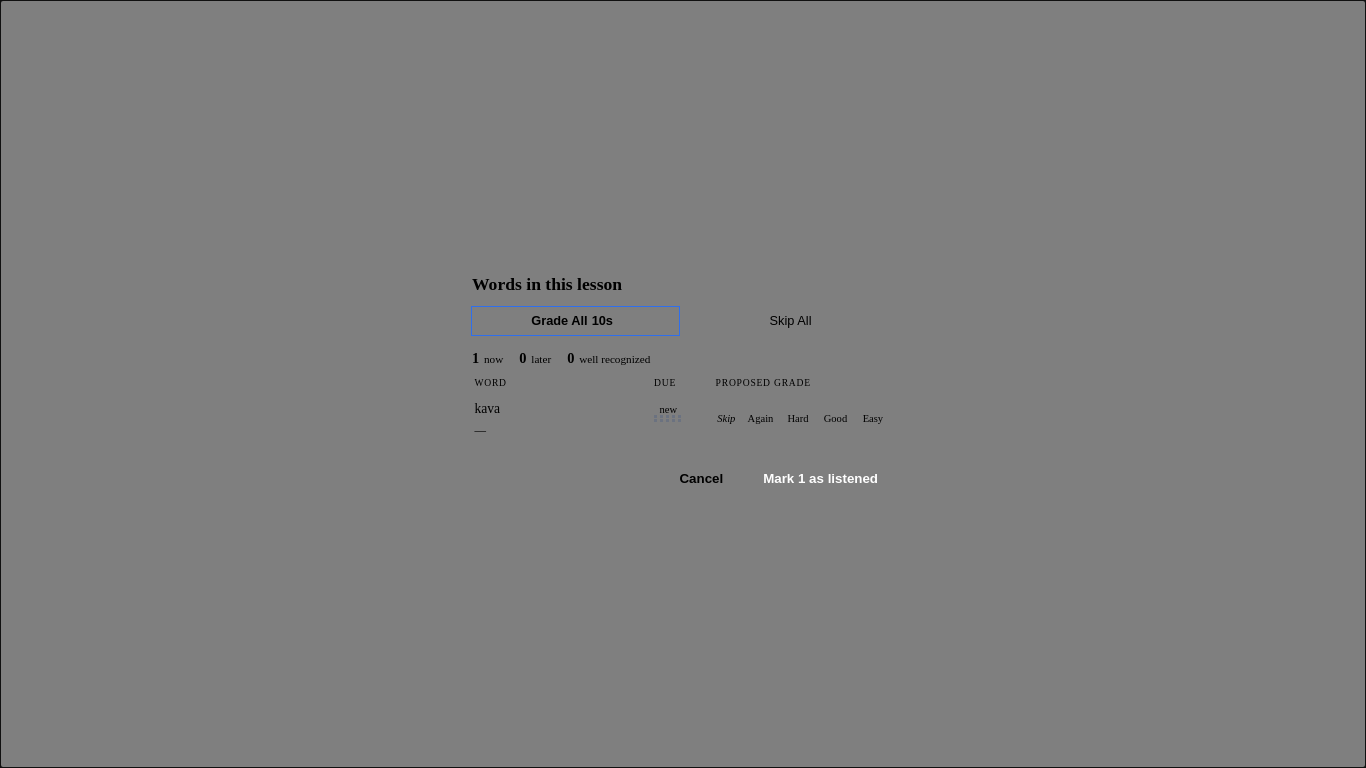
it: ListenPreviewModal › commit error shows error message
The image size is (1366, 768).
Step 1. Click the button "Mark 1 as listened" → (821, 479), box [747,463,894,494]
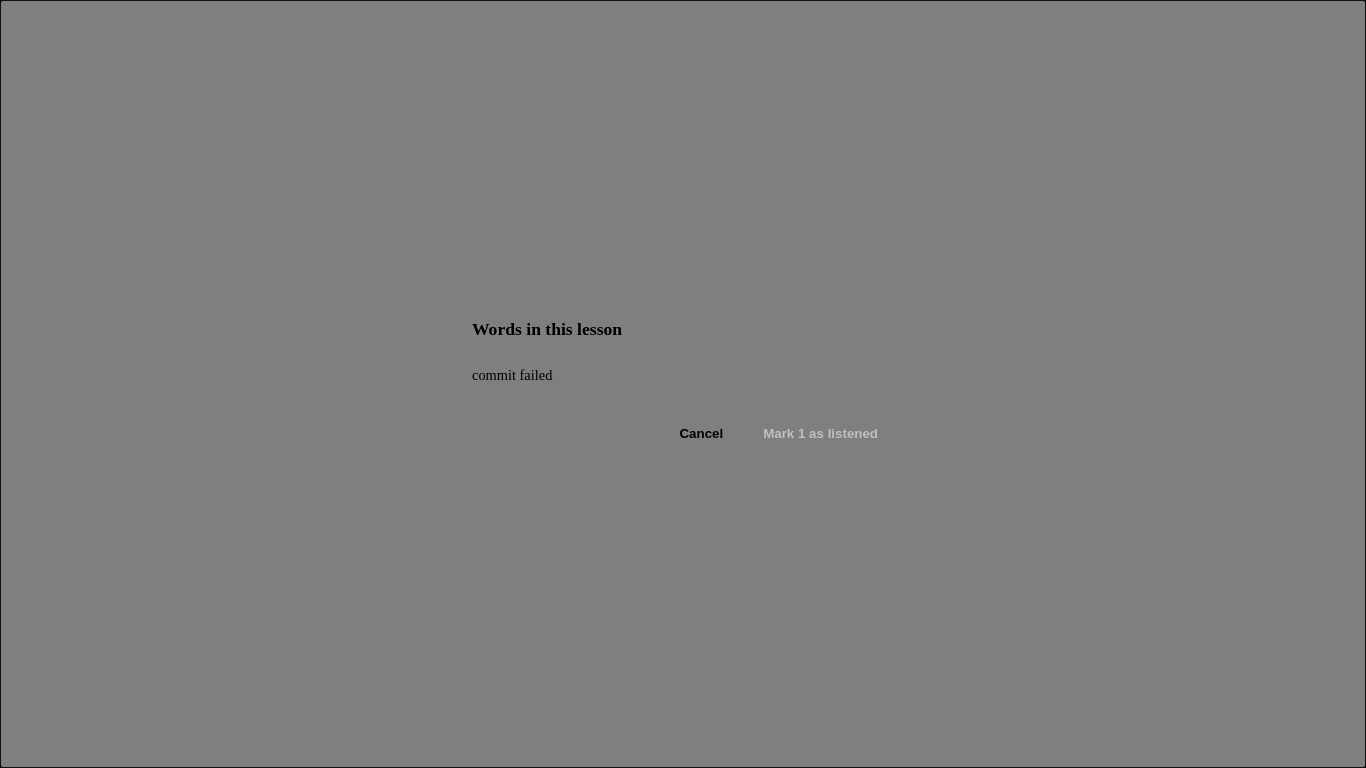
Now the text "commit failed" is shown, box [472,366,552,382]
